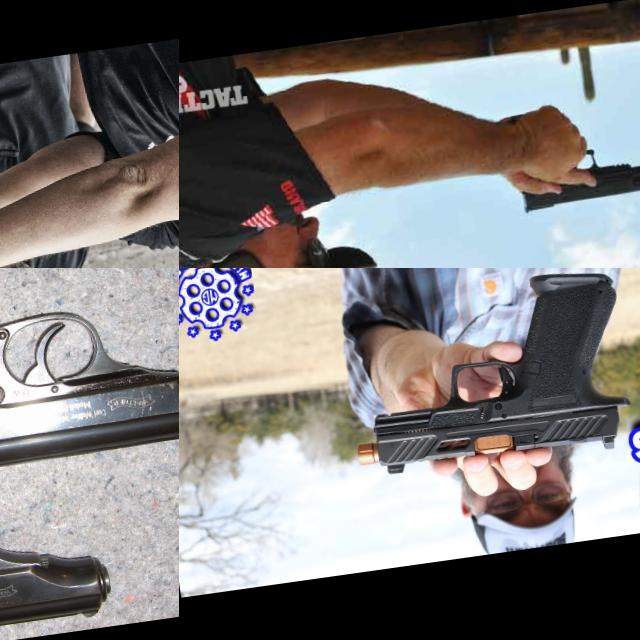handgun: (333, 268, 639, 488), (0, 363, 179, 640), (0, 268, 179, 501), (511, 139, 640, 216)
